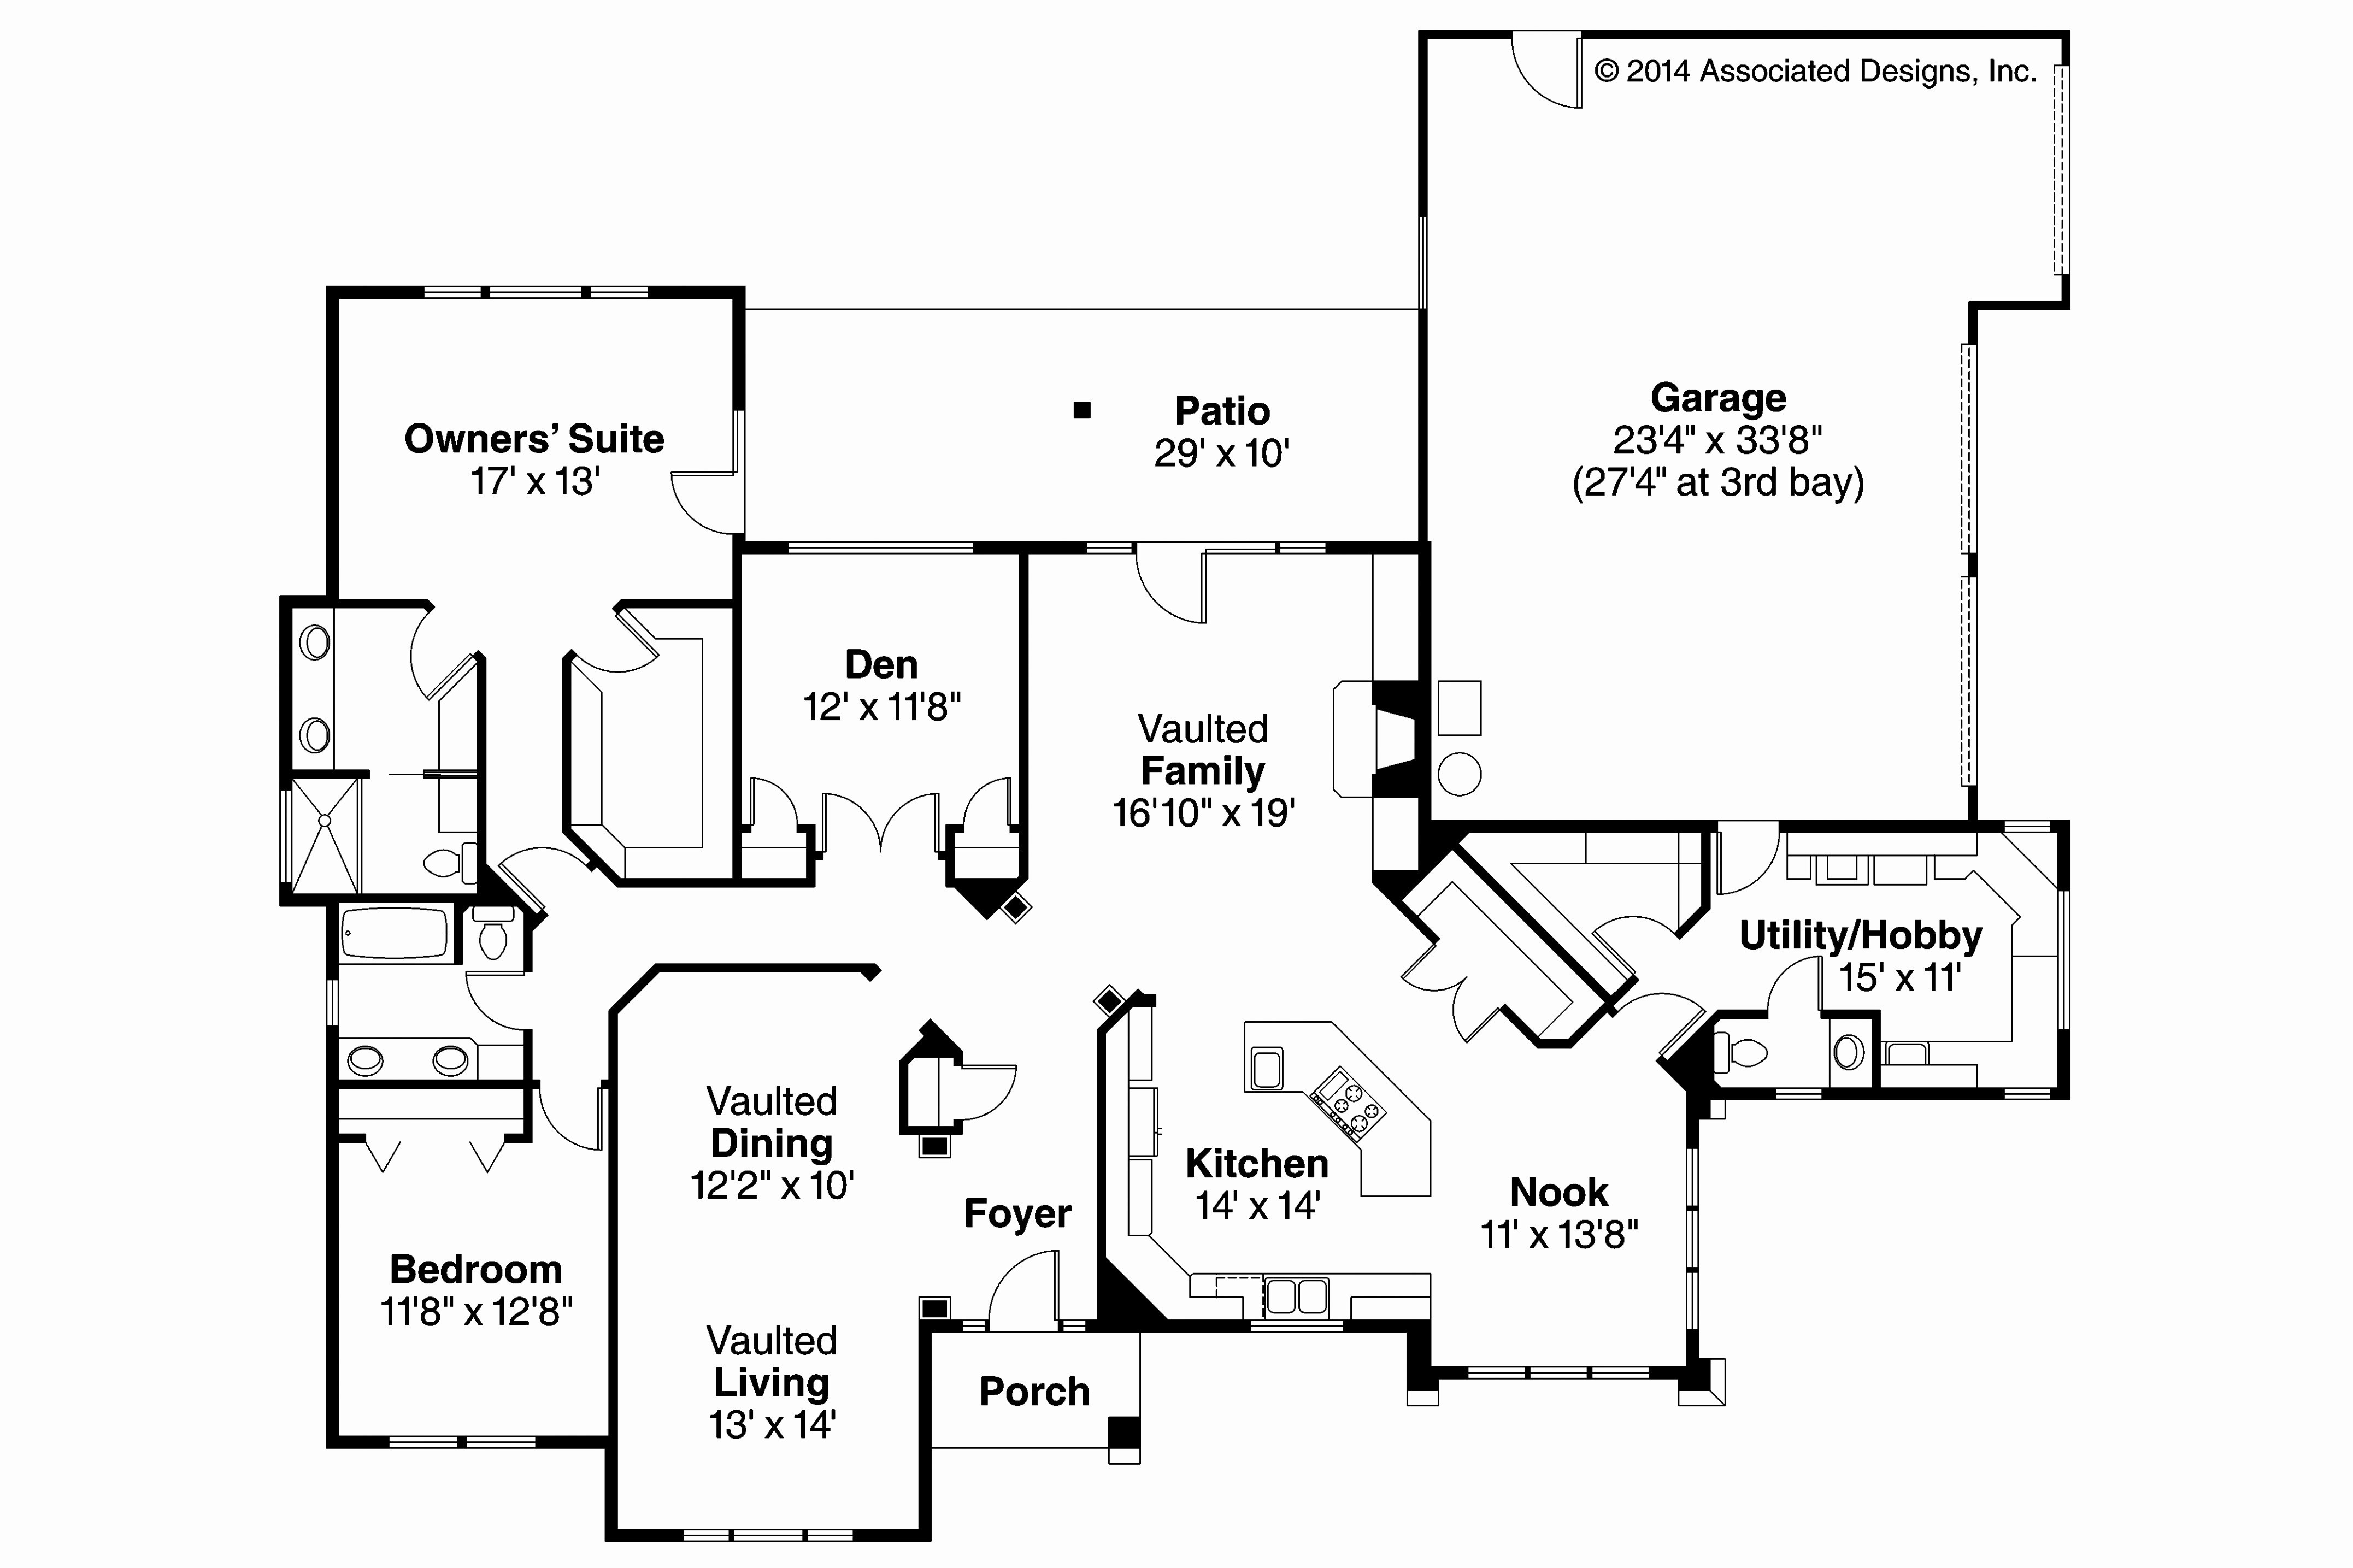room: (455, 901, 465, 961)
wall: (317, 282, 339, 612), (1092, 1022, 1113, 1333), (1015, 544, 1034, 877), (1576, 32, 2068, 44), (609, 1015, 619, 1552), (325, 1099, 339, 1447), (1414, 563, 1428, 838), (273, 588, 292, 784), (651, 961, 878, 977), (1424, 816, 1714, 826), (733, 544, 742, 877), (1419, 308, 1429, 563), (1331, 539, 1436, 562), (474, 647, 485, 866), (556, 661, 570, 824), (1872, 1087, 1996, 1104), (726, 290, 744, 411), (1106, 1319, 1253, 1333), (338, 889, 481, 903), (612, 873, 723, 891), (1700, 1081, 1777, 1106), (1352, 1316, 1429, 1339), (646, 282, 740, 299), (1419, 30, 1428, 215), (1781, 821, 2001, 828), (2049, 817, 2073, 880), (1667, 1365, 1714, 1395), (283, 889, 350, 910), (1970, 303, 2068, 317), (859, 1530, 931, 1547), (327, 1433, 388, 1452), (971, 539, 1037, 556), (327, 290, 408, 304), (623, 598, 745, 607), (1825, 1081, 1886, 1099), (730, 535, 782, 555), (803, 828, 820, 886), (744, 873, 826, 886), (282, 593, 343, 609), (537, 1435, 616, 1447), (941, 826, 957, 887), (1867, 1019, 1879, 1095), (518, 1085, 534, 1144), (1419, 1323, 1435, 1381), (611, 1528, 682, 1540), (917, 1309, 955, 1332), (276, 772, 355, 782), (325, 1024, 338, 1090), (1688, 1085, 1704, 1136), (1023, 542, 1086, 555), (922, 1323, 925, 1542), (324, 903, 339, 950), (2059, 1038, 2071, 1097), (952, 877, 1011, 889), (331, 1081, 532, 1085), (1828, 1005, 1877, 1019), (1419, 1368, 1471, 1381), (521, 1034, 534, 1085), (1424, 32, 1522, 37), (327, 1136, 357, 1146)
